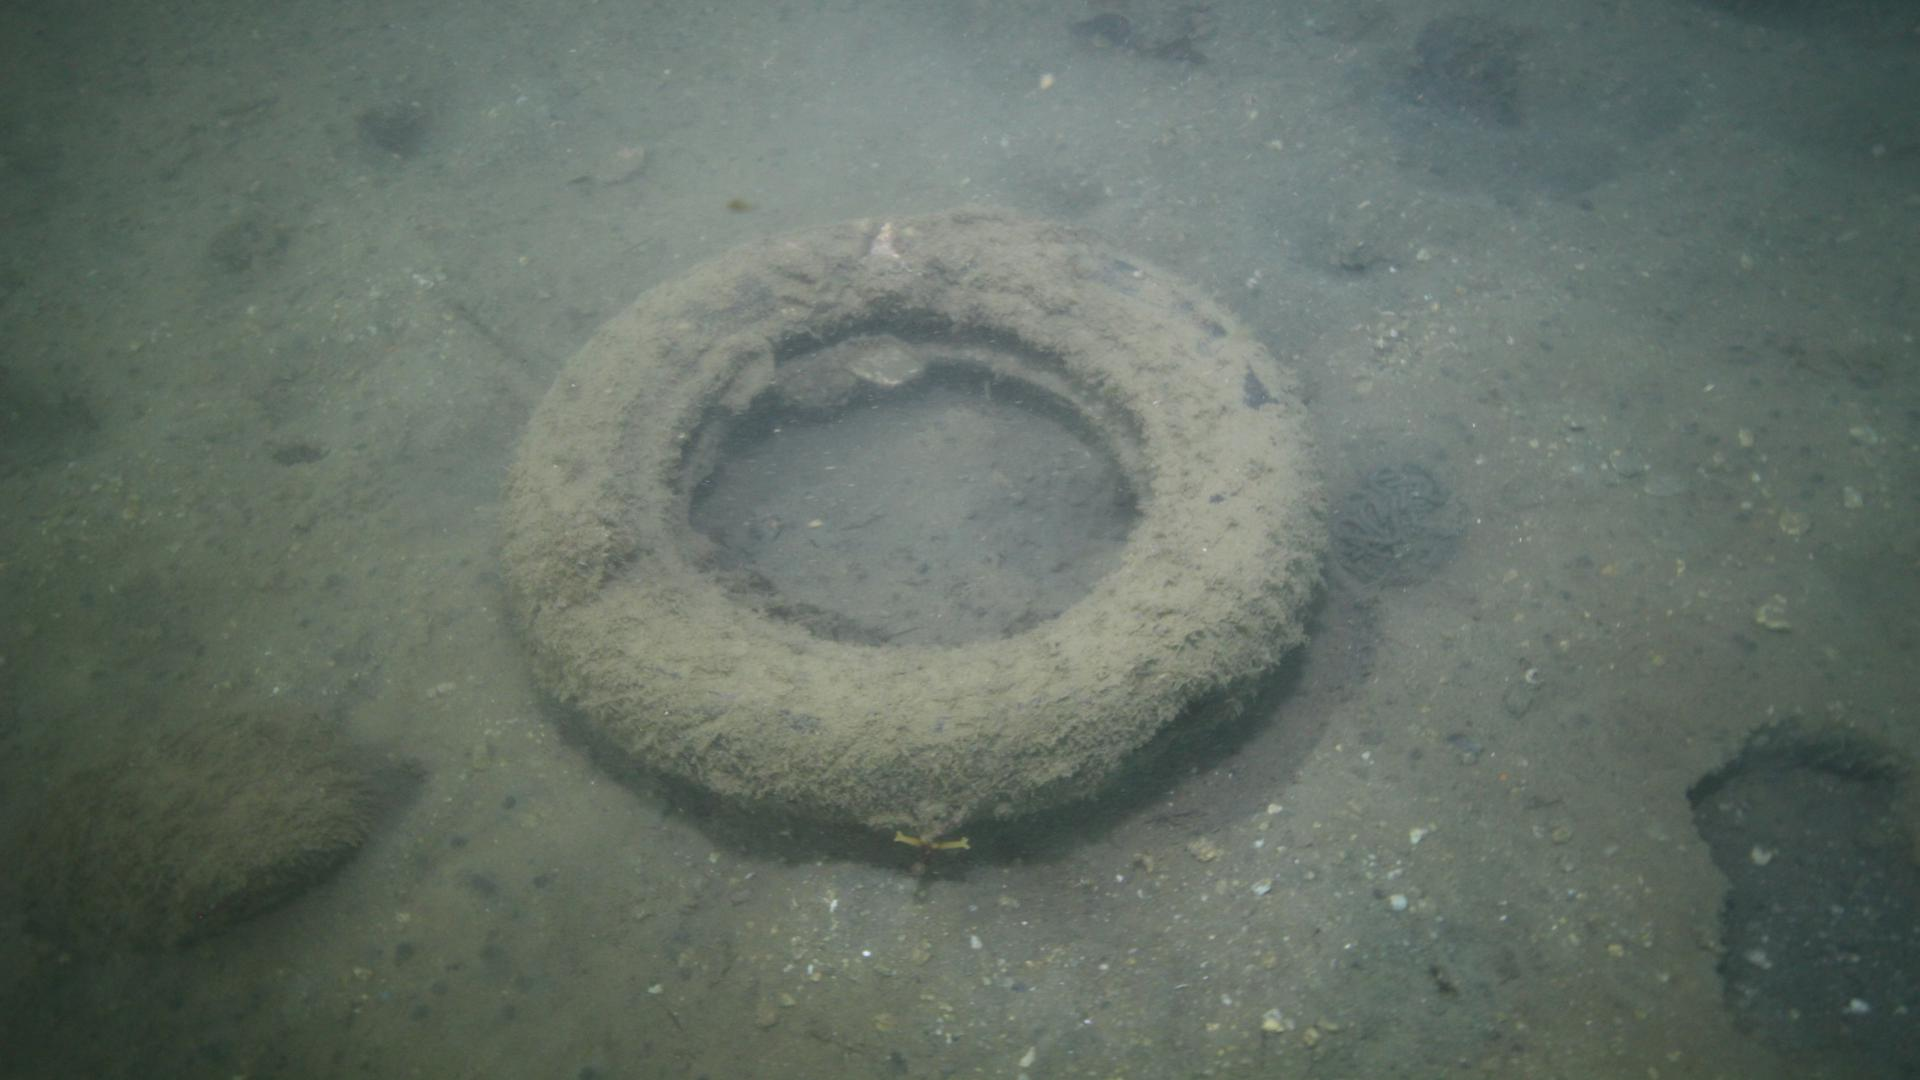tire: (497, 208, 1329, 831)
